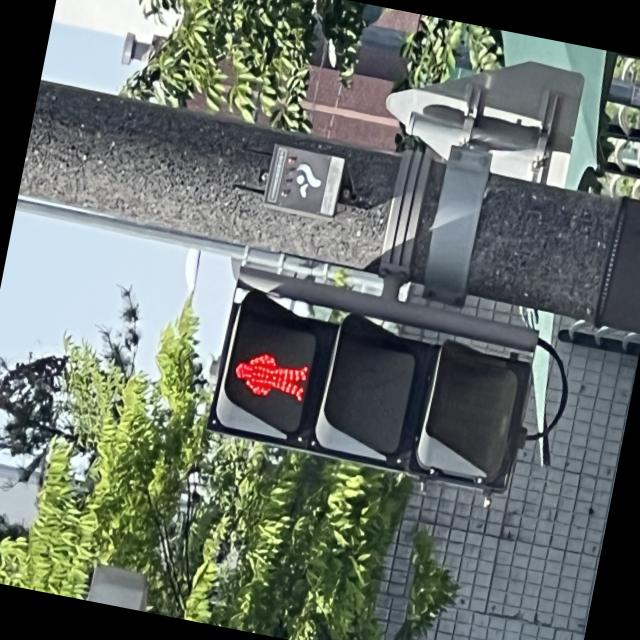red_light: (214, 294, 534, 482)
